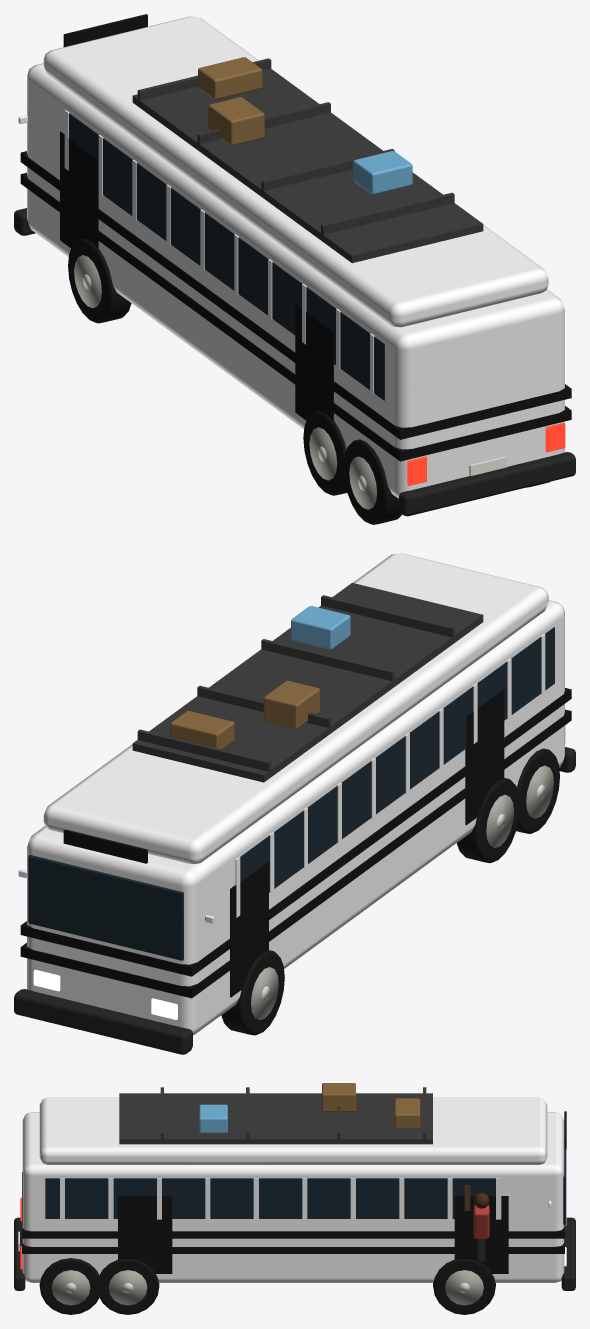
Rendered from molue.glb.
3 views of the same model, one above another, from view 1: azimuth 30°, elevation 25°; view 2: azimuth 150°, elevation 25°; view 3: azimuth 270°, elevation 25° (orthographic). The views are drawn at different scales.
Parts seen in each view (by area): view 1: molue; view 2: molue; view 3: molue.
Boxes of the visible parts, x1=… form: molue: x1=14, y1=14, x2=575, y2=524; molue: x1=14, y1=553, x2=575, y2=1054; molue: x1=14, y1=1083, x2=575, y2=1314.
Bounding box in the file's own units: 2.97 × 3.62 × 9.86.
